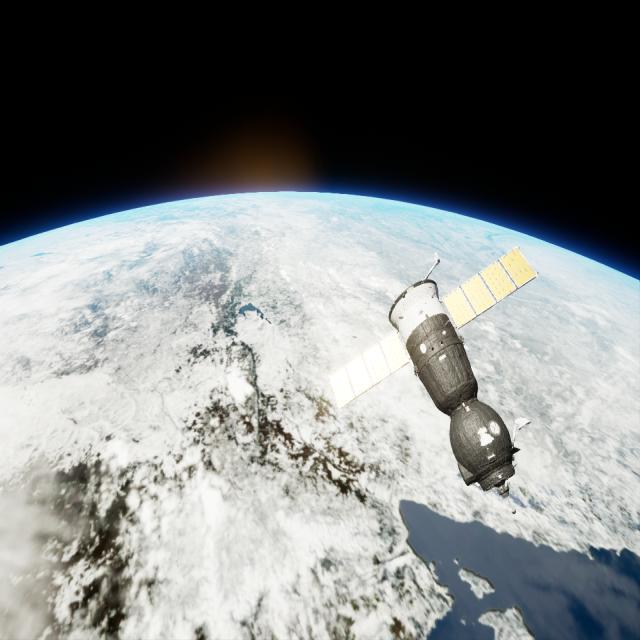Satellites revolving around earth: (1, 189, 639, 638), (327, 244, 540, 499)
